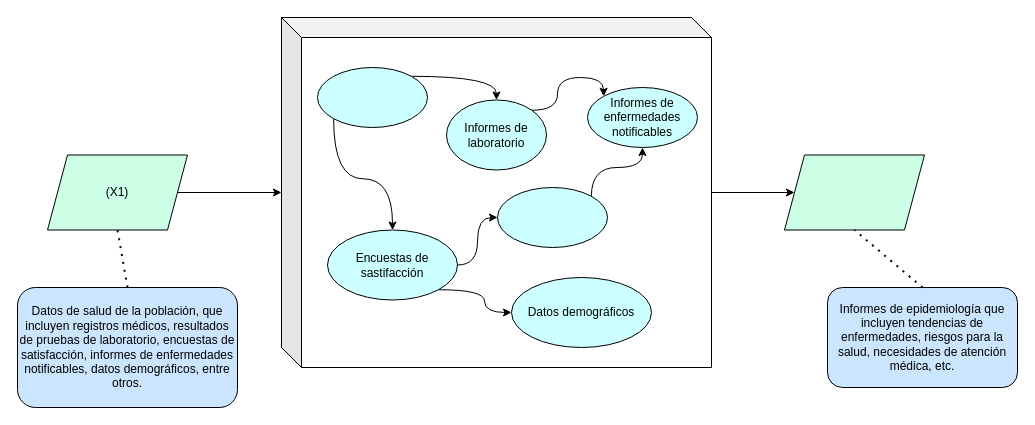
Some shapes in this 1035 by 425 pixel diagram are drawn without their labels. The shapes that lost their labels are listed below. From the top down, each one's centre as x and y in pixels, then its label:
pixel 372 97: Registros médicos
pixel 854 192: (Y1) Subsistema de Epidemiología
pixel 552 217: Datos de salud publica
